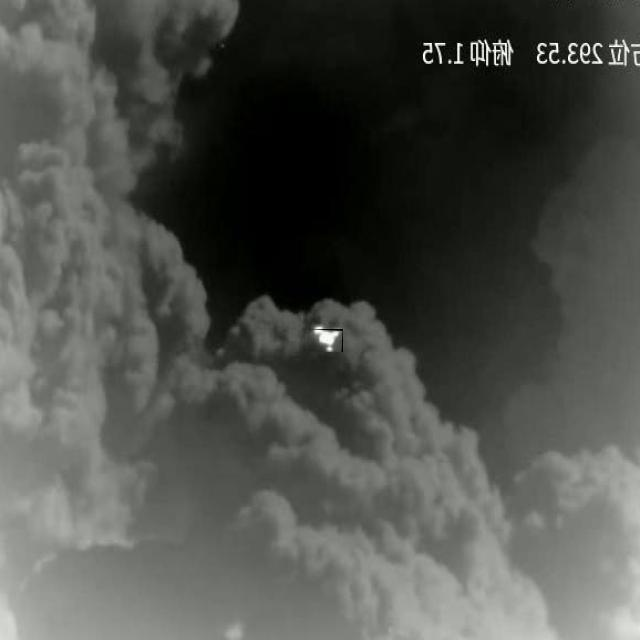drone: (310, 329, 343, 352)
